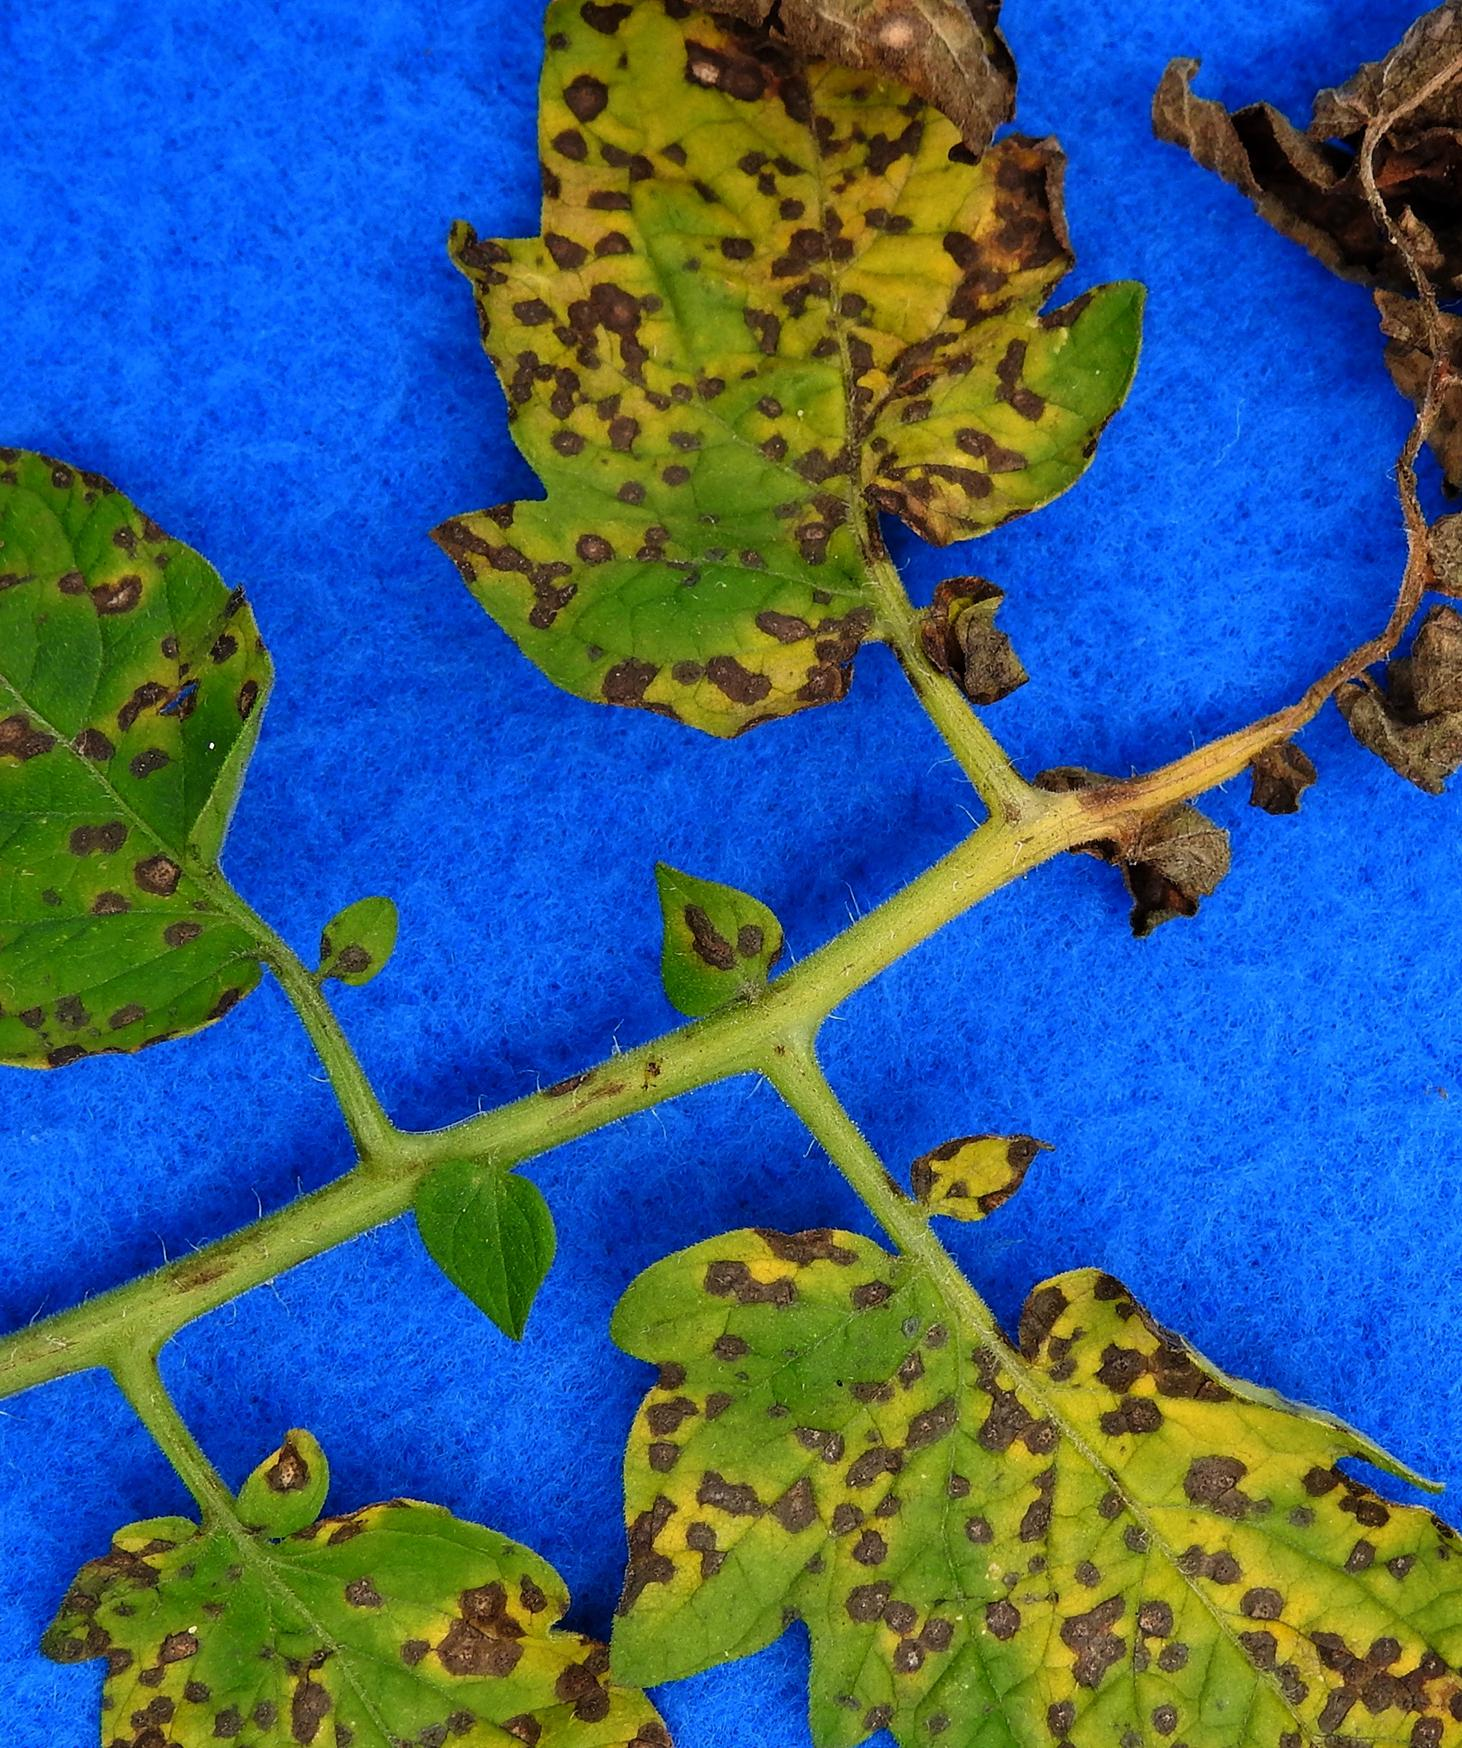Tomato Septoria leaf spot: (436, 0, 1206, 732), (608, 1169, 1462, 1748), (0, 274, 318, 1143), (49, 1429, 748, 1748)
